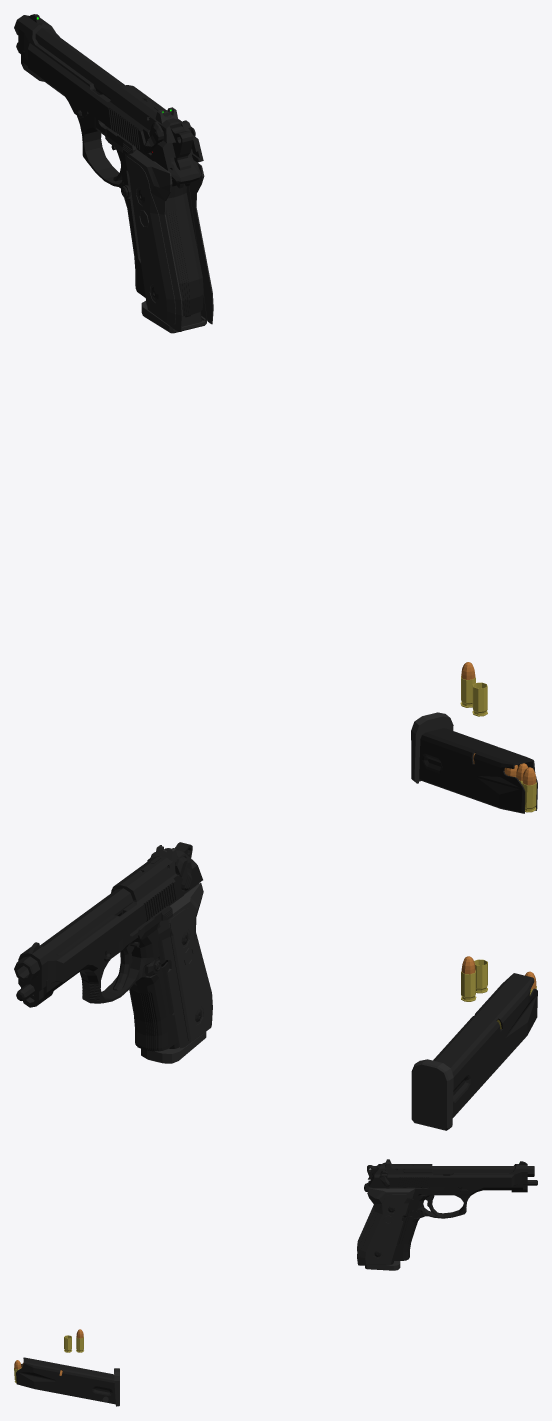
The model's file is gun collection.bretta.fbx.
3 views of the same model, one above another, from view 1: azimuth 30°, elevation 25°; view 2: azimuth 150°, elevation 25°; view 3: azimuth 270°, elevation 25° (orthographic). The views are drawn at different scales.
Visible parts, largest first — view 1: bretta, magazing full; view 2: bretta, magazing full, bullet, bullet casing; view 3: bretta, magazing full.
Part boxes in pixels (x1=…): bretta: x1=14, y1=14, x2=213, y2=333; magazing full: x1=411, y1=712, x2=537, y2=813; bretta: x1=14, y1=842, x2=212, y2=1063; magazing full: x1=411, y1=971, x2=537, y2=1130; bullet: x1=461, y1=956, x2=476, y2=1001; bullet casing: x1=474, y1=959, x2=487, y2=993; bretta: x1=357, y1=1159, x2=537, y2=1270; magazing full: x1=14, y1=1357, x2=119, y2=1406.
Size of the model in its own units: 323 by 3084 by 6064.
